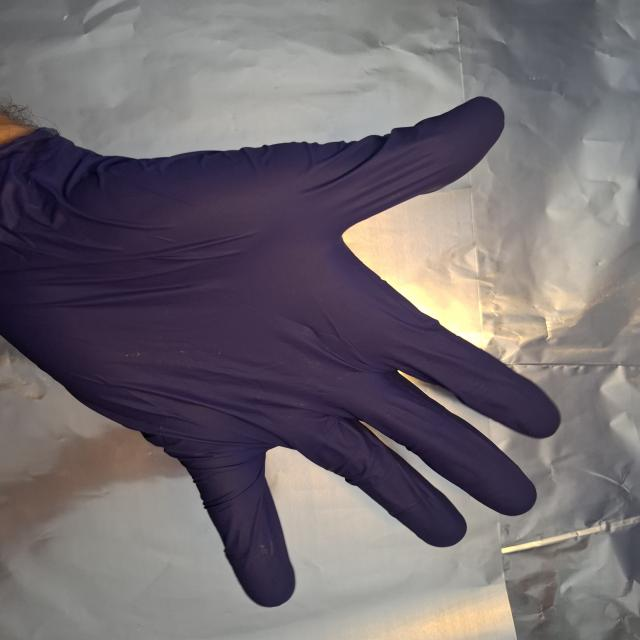glove_on: (8, 91, 568, 616)
